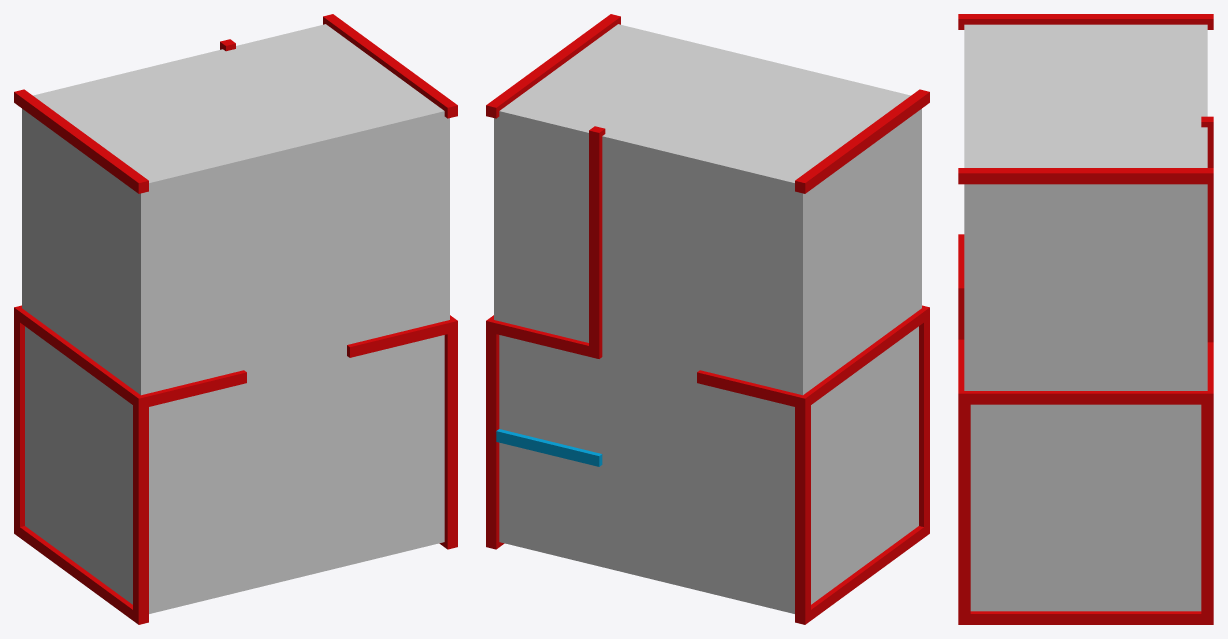
File: level_2.fbx
3 renders of one model, left to right at view 1: azimuth 30°, elevation 25°; view 2: azimuth 150°, elevation 25°; view 3: azimuth 270°, elevation 25°, orthographic. The views are drawn at different scales.
Visible parts, largest first — view 1: 立方体.001; view 2: 立方体.001; view 3: 立方体.001.
Boxes of the visible parts, x1,y1,x2,y2 form: 立方体.001: [14, 14, 457, 624]; 立方体.001: [486, 14, 929, 624]; 立方体.001: [958, 14, 1213, 624].
Size of the model in its own units: 620 by 820 by 420.
